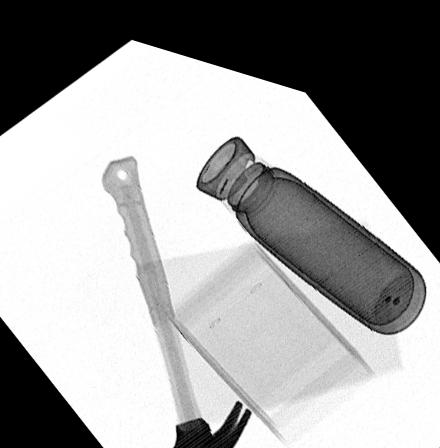Hammer: (100, 146, 251, 448)
